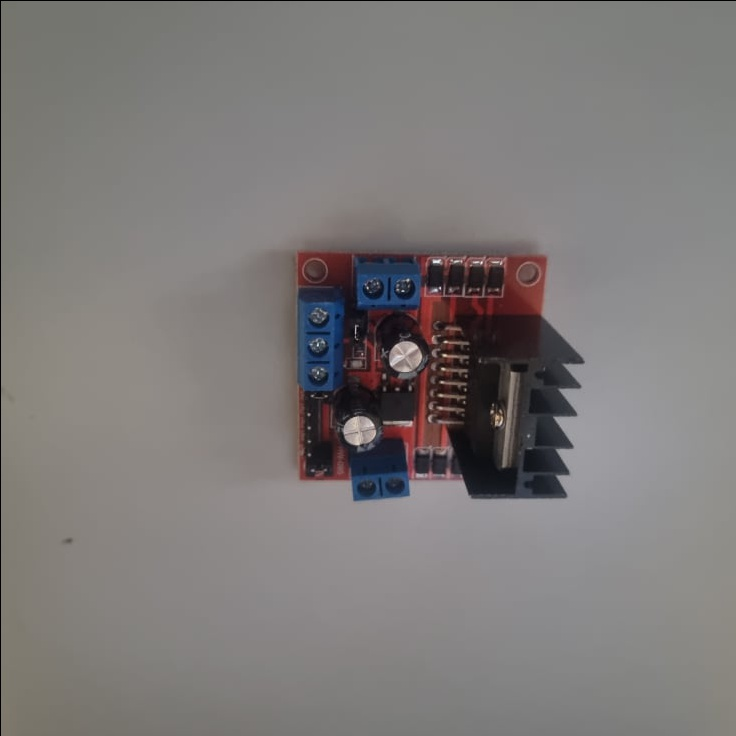MOTOR: (292, 245, 586, 499)
